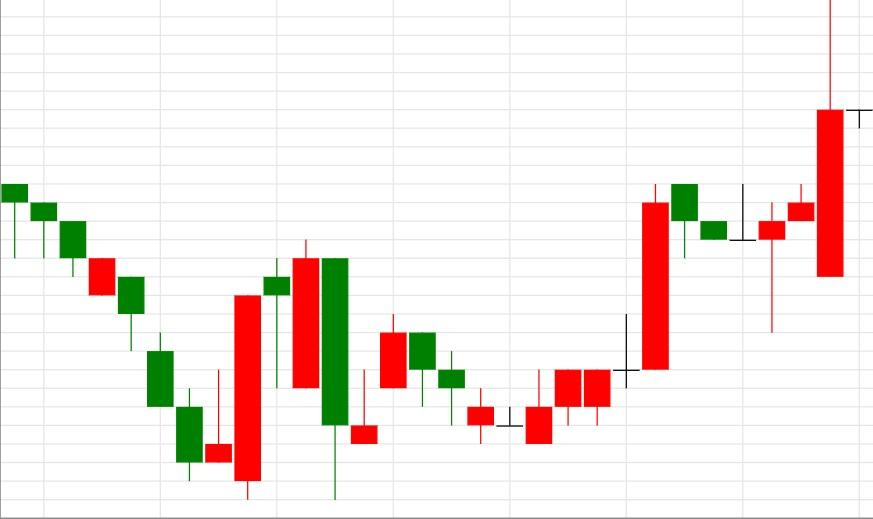inverse_hammer_rise: (0, 183, 233, 482), (291, 239, 379, 501)
